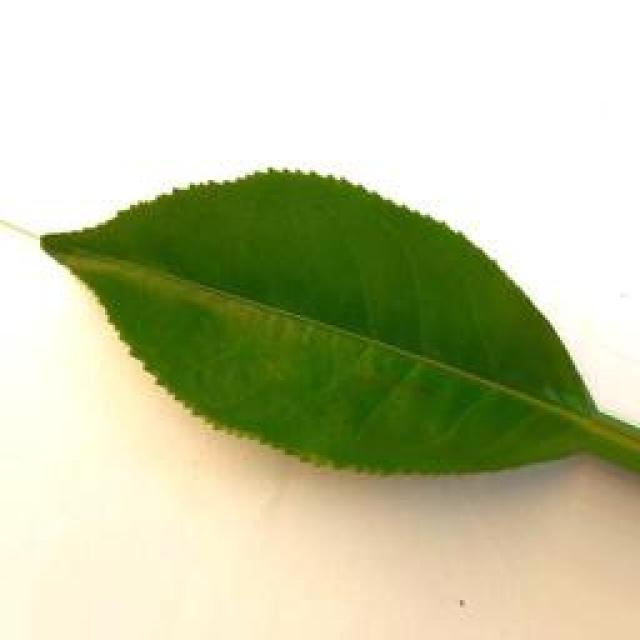Healthy: (31, 132, 640, 494)
